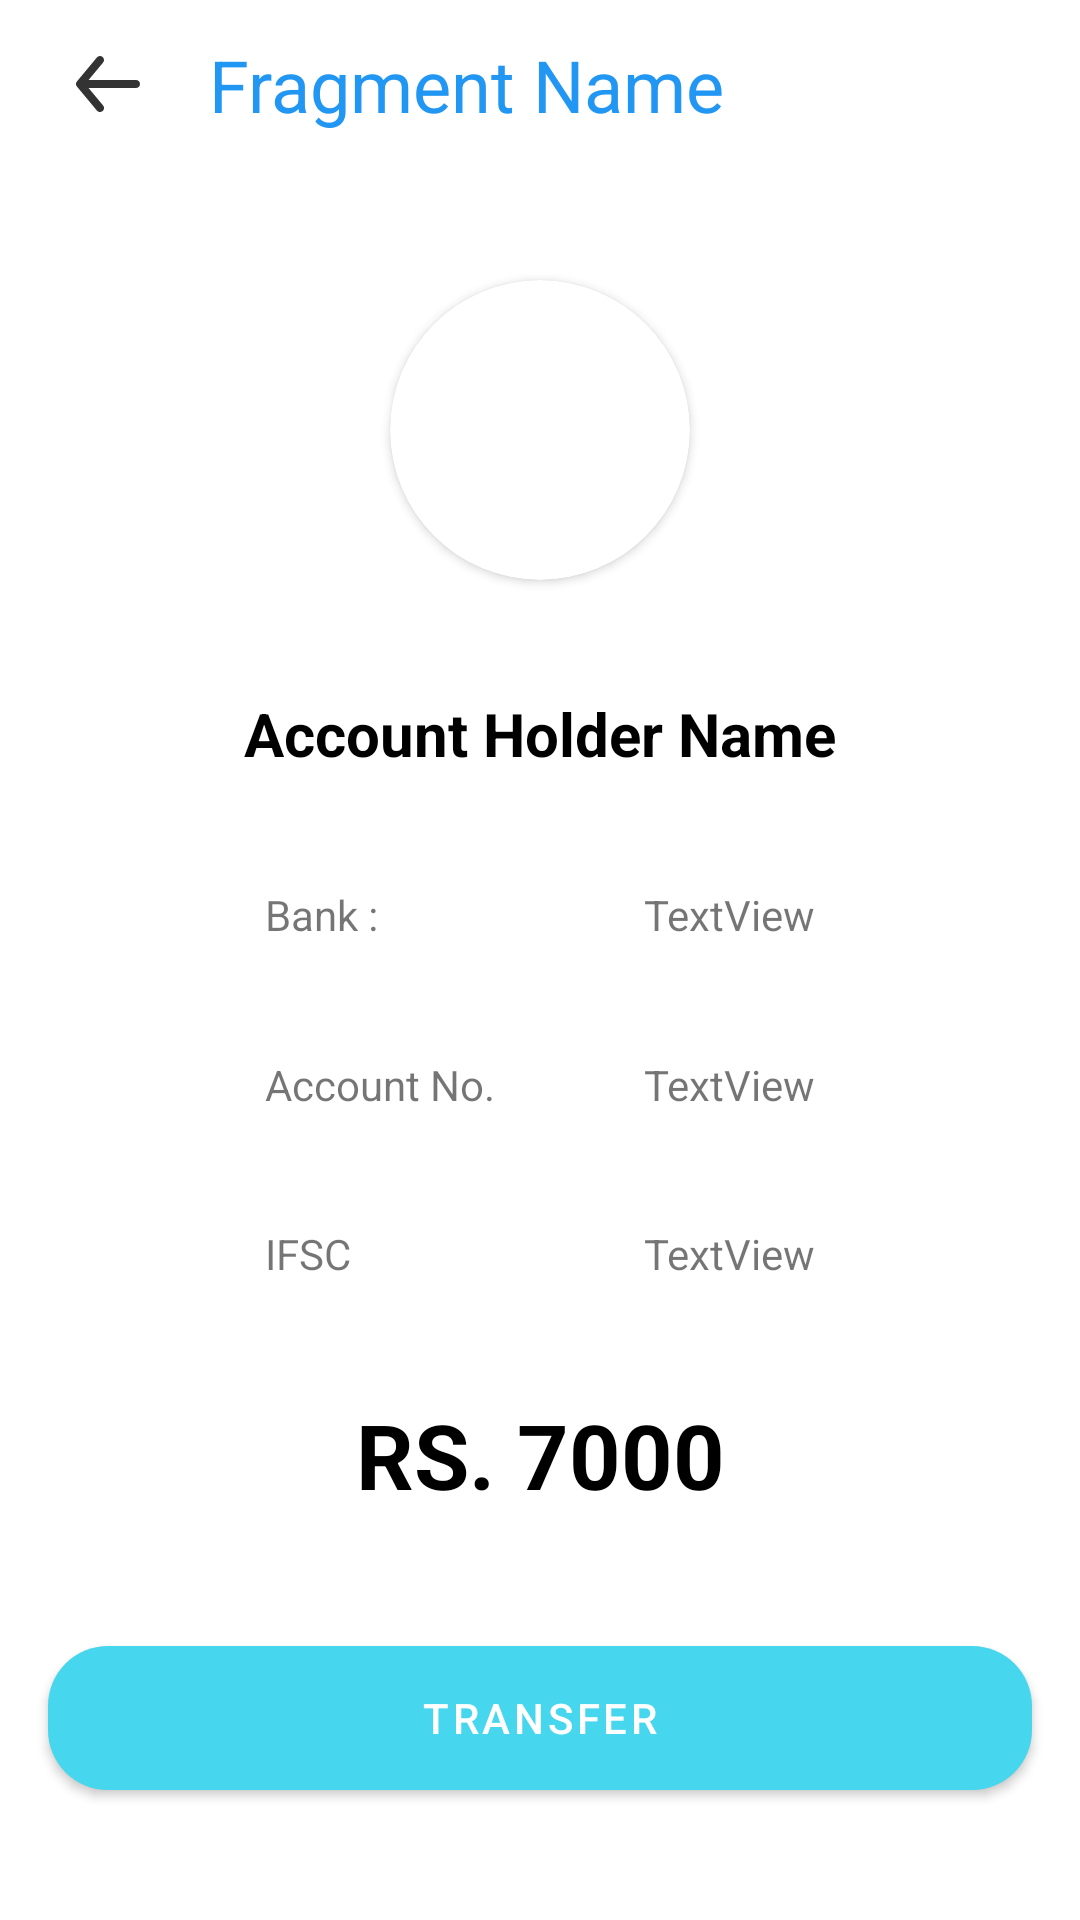

Icon bounding boxes for this 1080 x 1920 phone screenshot, format (x1, y1, x2, y2):
arrow: (76, 56, 140, 112)
